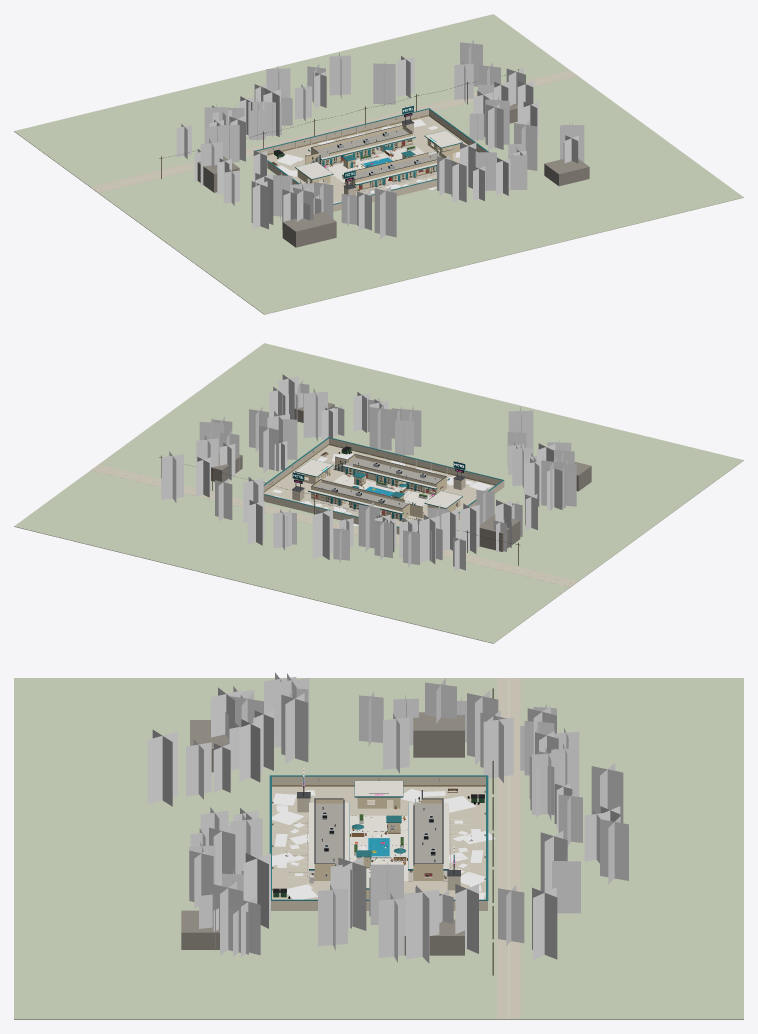
The model's file is vacancy.glb.
3 renders of one model, top to bottom at view 1: azimuth 30°, elevation 25°; view 2: azimuth 150°, elevation 25°; view 3: azimuth 270°, elevation 25°, orthographic. The views are drawn at different scales.
Parts seen in each view (by area): view 1: v_grass:verge, card:fir, v_asphalt:lot, flat:far building, v_stucco:stucco, v_stucco:block wall, flat:white trim, paint:fascia, v_gravel:roof, decal:ground wear, flat:metal cap, v_paving:pool deck (+1 smaller); view 2: v_grass:verge, card:fir, v_asphalt:lot, v_stucco:block wall, v_stucco:stucco, flat:far building, flat:white trim, paint:fascia, v_gravel:roof, flat:metal cap, decal:ground wear, v_paving:pool deck (+1 smaller); view 3: v_grass:verge, card:fir, v_asphalt:lot, flat:far building, decal:ground wear, v_gravel:roof, v_stucco:block wall, flat:white trim, paint:fascia, v_stucco:stucco, v_paving:pool deck, flat:metal cap (+1 smaller).
Part boxes in pixels (x1,y1,x2,y2): v_grass:verge: (14,14,743,314); card:fir: (176,39,584,239); v_asphalt:lot: (91,70,577,202); flat:far building: (197,103,589,247); v_stucco:stucco: (297,125,459,190); v_stucco:block wall: (256,109,497,211); flat:white trim: (295,105,462,189); paint:fascia: (255,108,497,204); v_gravel:roof: (316,128,441,178); decal:ground wear: (277,119,459,203); flat:metal cap: (305,105,452,189); v_paving:pool deck: (325,145,424,182); v_grass:verge: (14,343,743,643); card:fir: (161,374,576,570); v_asphalt:lot: (91,445,577,587); v_stucco:block wall: (263,438,504,534); v_stucco:stucco: (298,454,460,518); flat:far building: (211,402,591,551); flat:white trim: (292,459,465,519); paint:fascia: (263,437,504,531); v_gravel:roof: (316,457,441,507); flat:metal cap: (292,454,465,514); decal:ground wear: (272,454,491,531); v_paving:pool deck: (333,474,431,506); v_grass:verge: (14,678,743,1019); card:fir: (147,672,628,963); v_asphalt:lot: (272,678,520,1018); flat:far building: (181,712,464,955); decal:ground wear: (269,789,495,899); v_gravel:roof: (315,803,442,865); v_stucco:block wall: (271,776,487,910); flat:white trim: (303,768,454,888); paint:fascia: (269,775,488,900); v_stucco:stucco: (314,797,443,899); v_paving:pool deck: (350,815,408,880); flat:metal cap: (297,770,460,876).
Size of the model in its own units: 188 by 17 by 170.
Materials: 69 (21 with a texture image).
